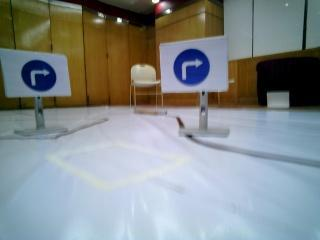right: (7, 51, 66, 95), (164, 47, 223, 89)
